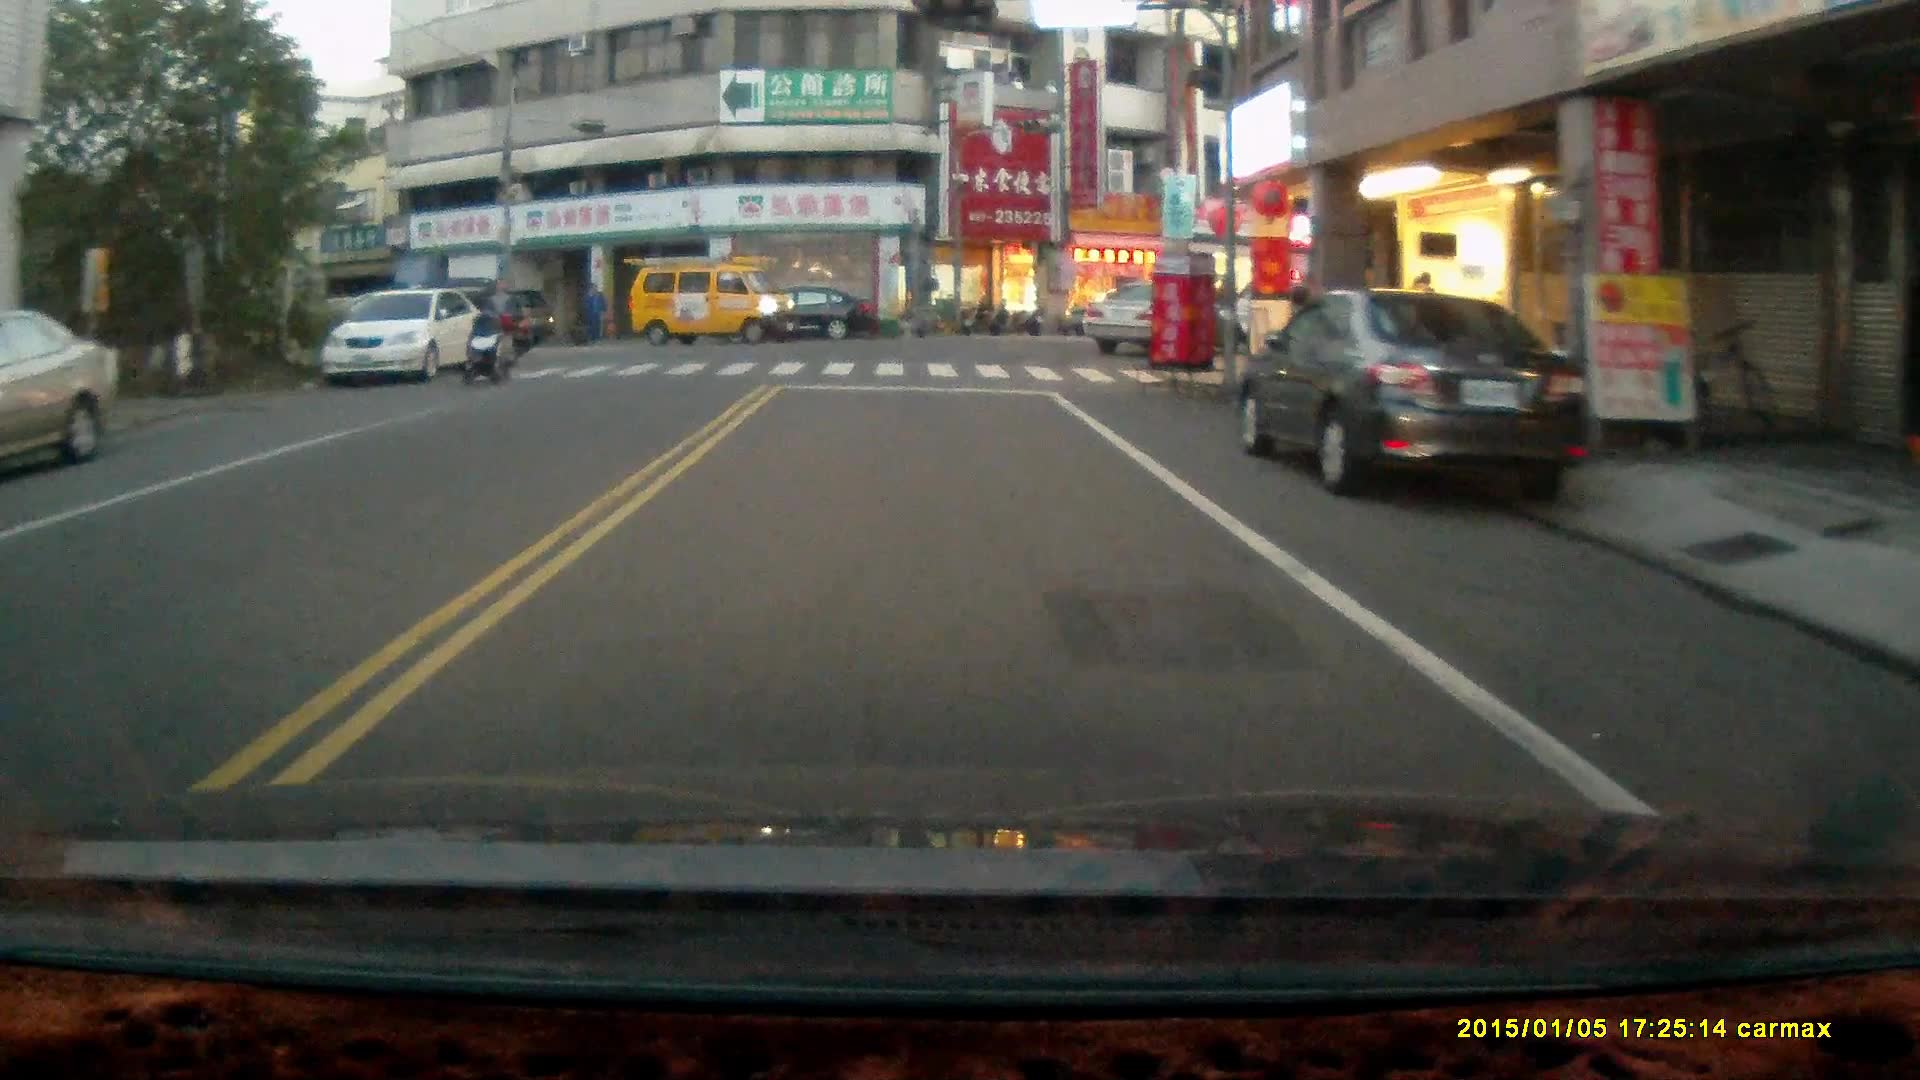pedestrian: (482, 275, 513, 365), (579, 277, 604, 343)
rider: (458, 311, 515, 389)
vehicle: (1237, 288, 1595, 501), (1, 298, 118, 472), (322, 288, 489, 387), (629, 257, 800, 349), (1078, 278, 1233, 354), (738, 285, 881, 348)
